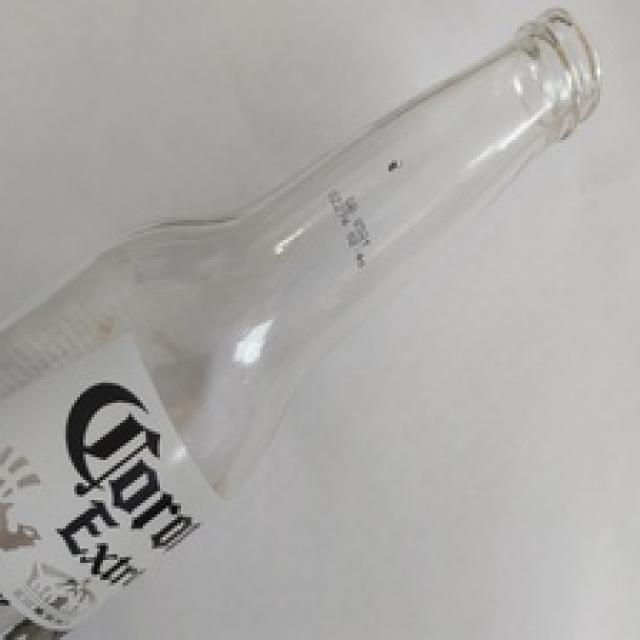glass-bottle: (7, 21, 605, 635)
